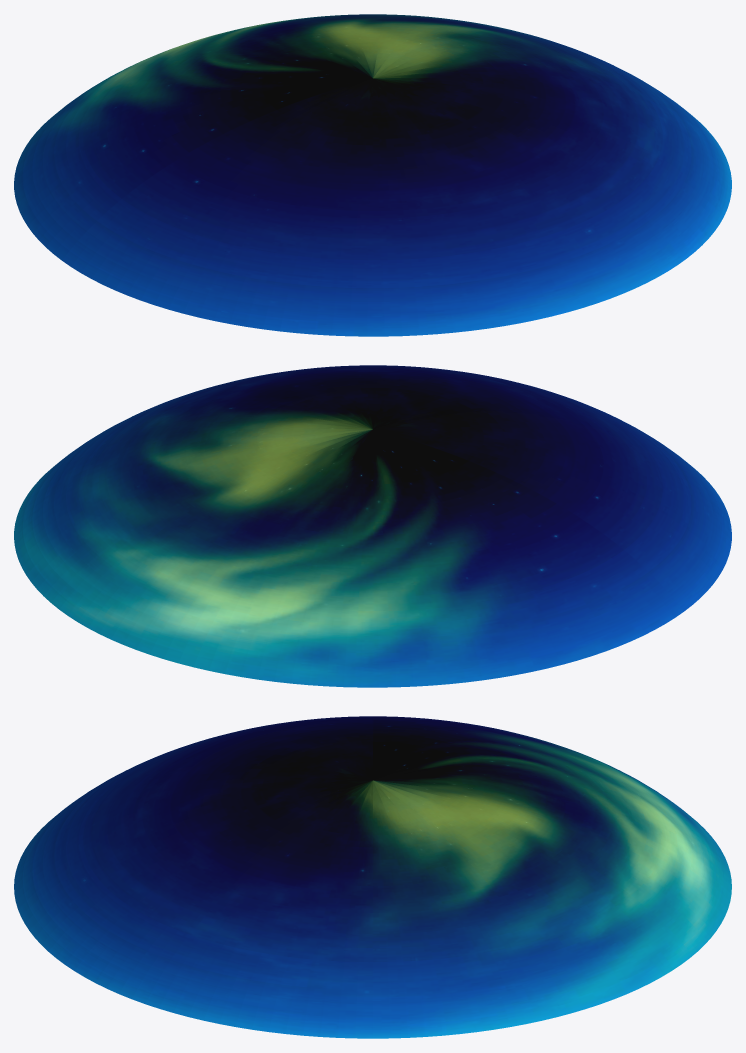
Rendered from SkyBox.glb.
3 views of the same model, one above another, from view 1: azimuth 30°, elevation 25°; view 2: azimuth 150°, elevation 25°; view 3: azimuth 270°, elevation 25° (orthographic).
Visible parts, largest first — view 1: Sphere; view 2: Sphere; view 3: Sphere.
Part boxes in pixels (x1,y1,x2,y2): Sphere: (14,14,731,336); Sphere: (14,365,731,687); Sphere: (14,716,731,1038).
Size of the model in its own units: 504 by 82.56 by 504.
1 material, 1 textured.
